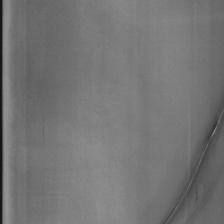crease: (155, 73, 222, 218)
